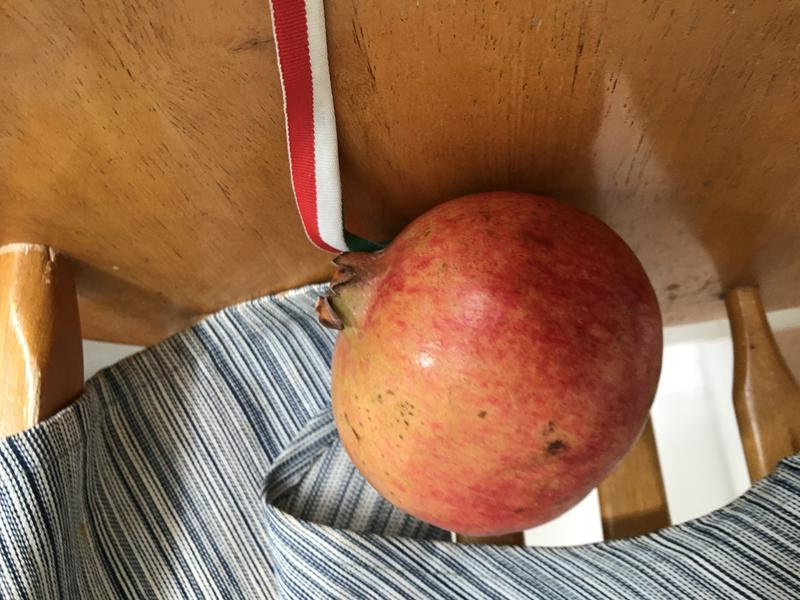pomegranate: (294, 180, 676, 543)
